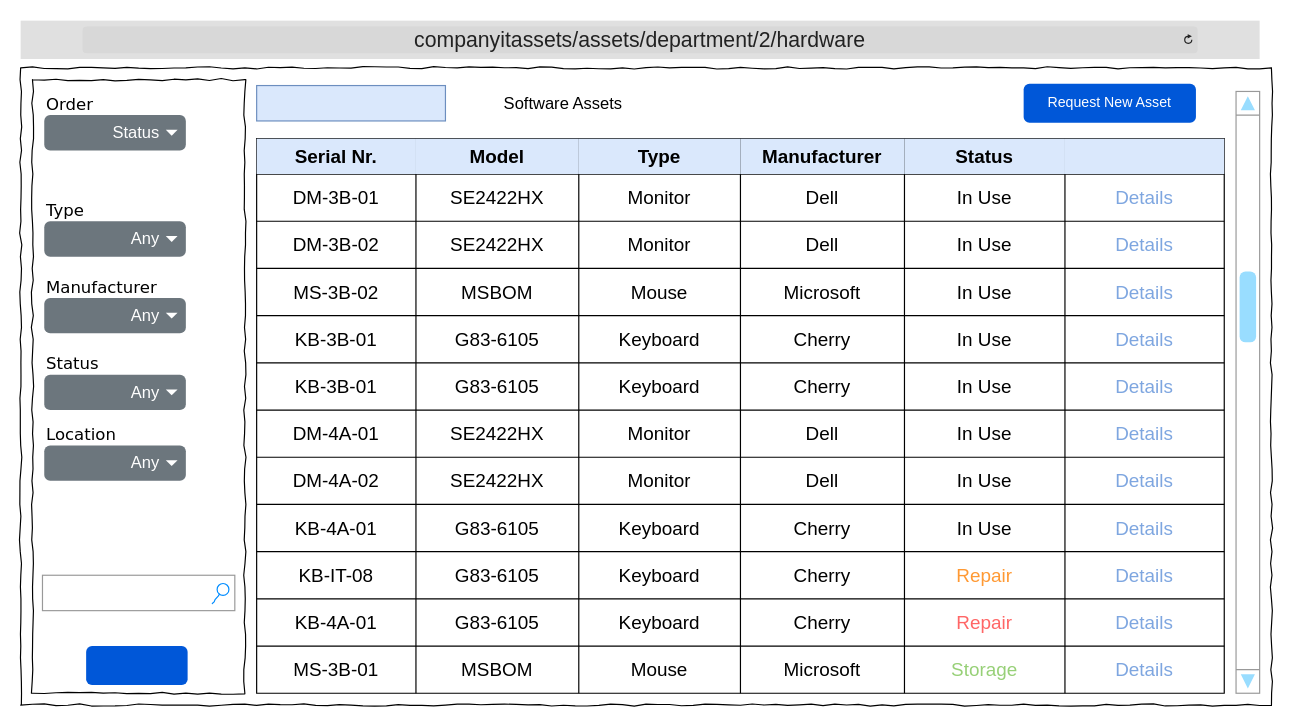
Some shapes in this 1292 by 726 pixel diagram are drawn without their labels. The shapes that lost their labels are listed below. From the top down, each one's centre as x and y in pixels, then its label:
the point at 350,102: Hardware Assets
the point at 138,592: Search
the point at 136,664: Apply
